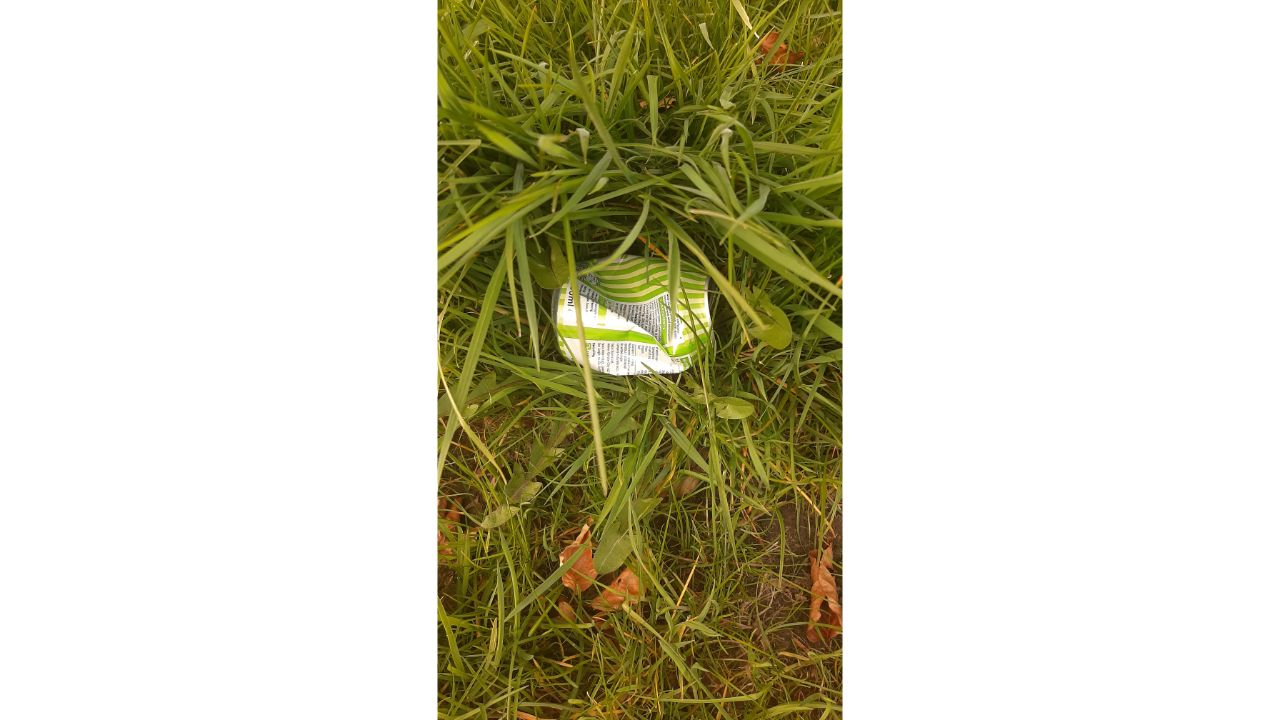Can: (540, 249, 737, 389)
